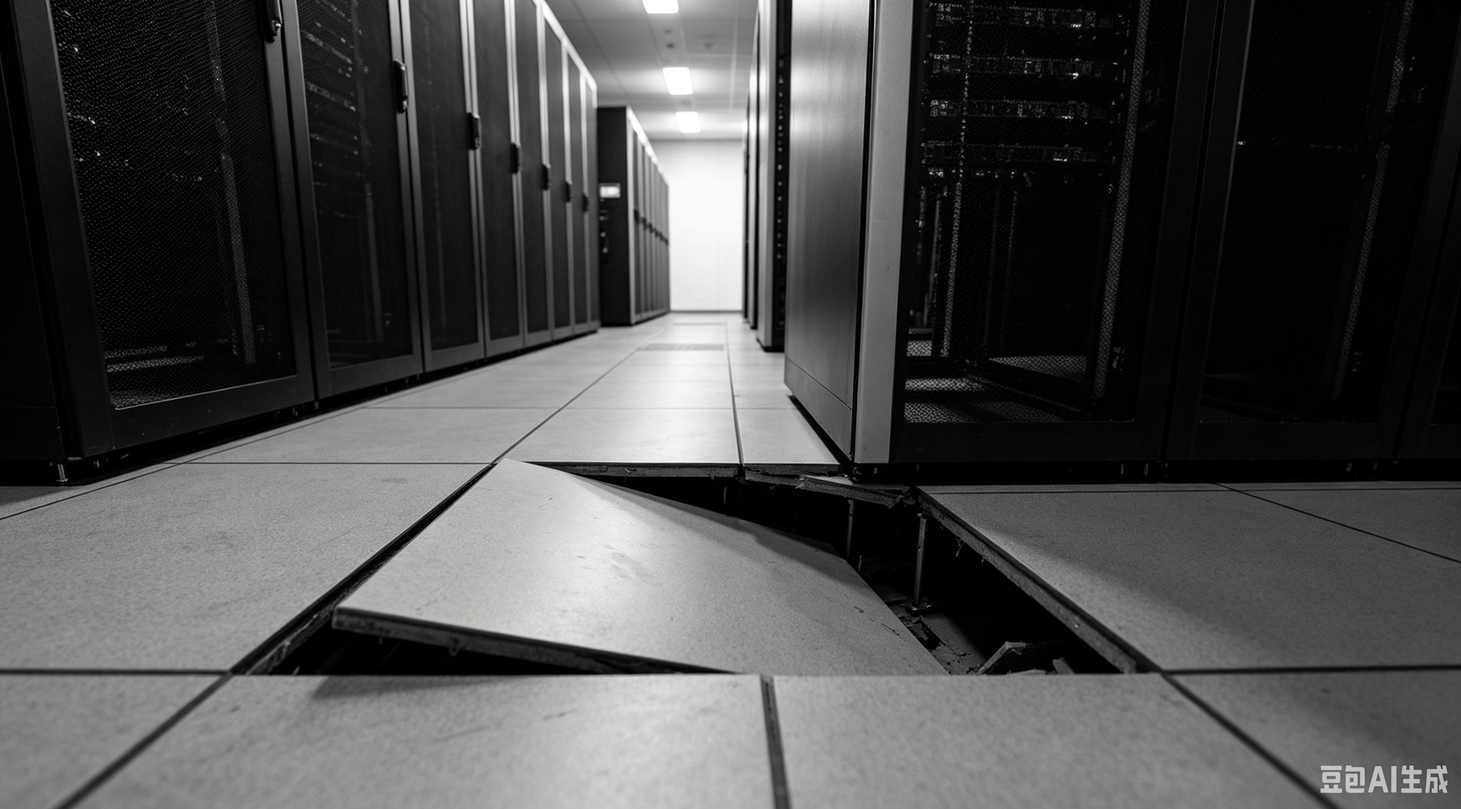floor_defect: (236, 396, 1146, 721)
